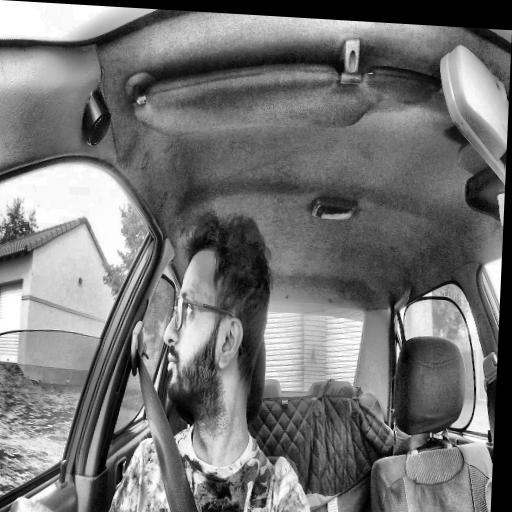awake: (160, 209, 274, 420)
